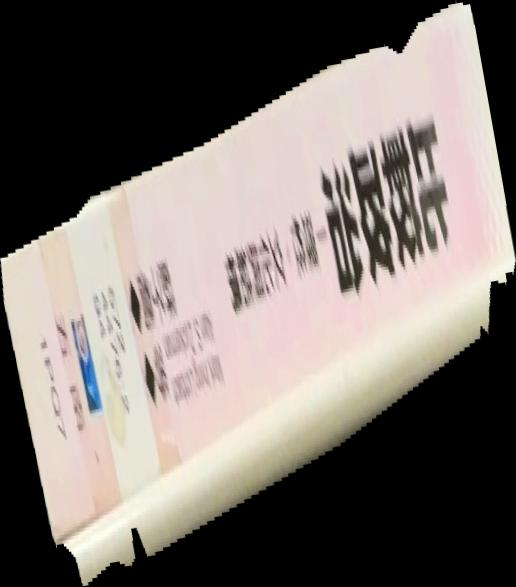flat: (1, 1, 516, 587)
